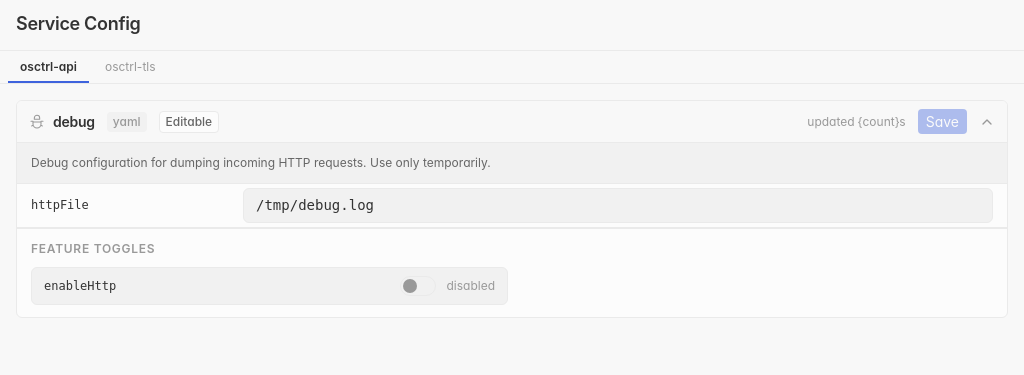
Scenario: ServiceConfigPage › shows an error when the PUT returns 409 (not editable)
The image size is (1024, 375).
Replace the text in the field showing "/tmp/debug.log" with "/changed" at (618, 205), box [243,188,993,222]
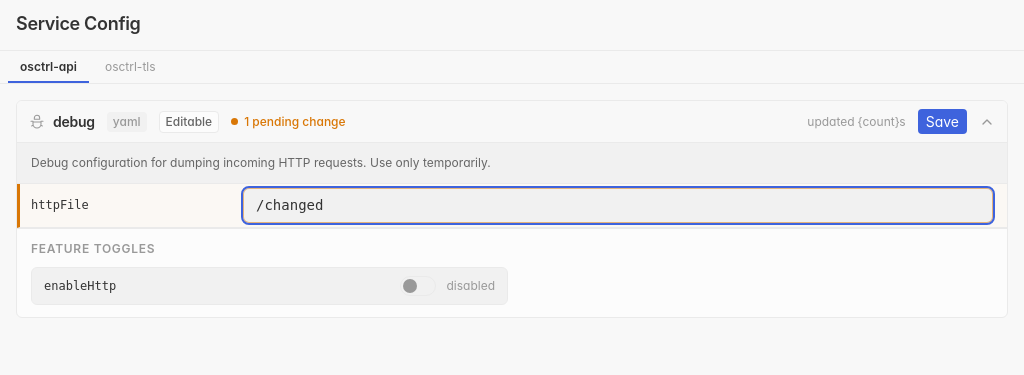
Click the button "Save" at (942, 122), box [918,109,967,134]
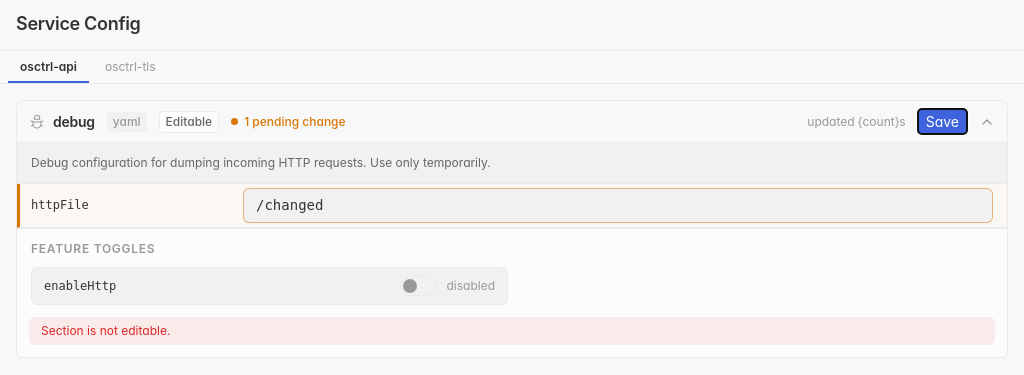
Expected: the text "Section is not editable." is shown, [29,316,995,344]
